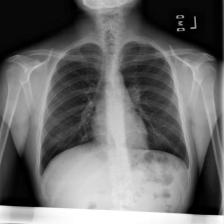normal: (34, 39, 192, 178)
